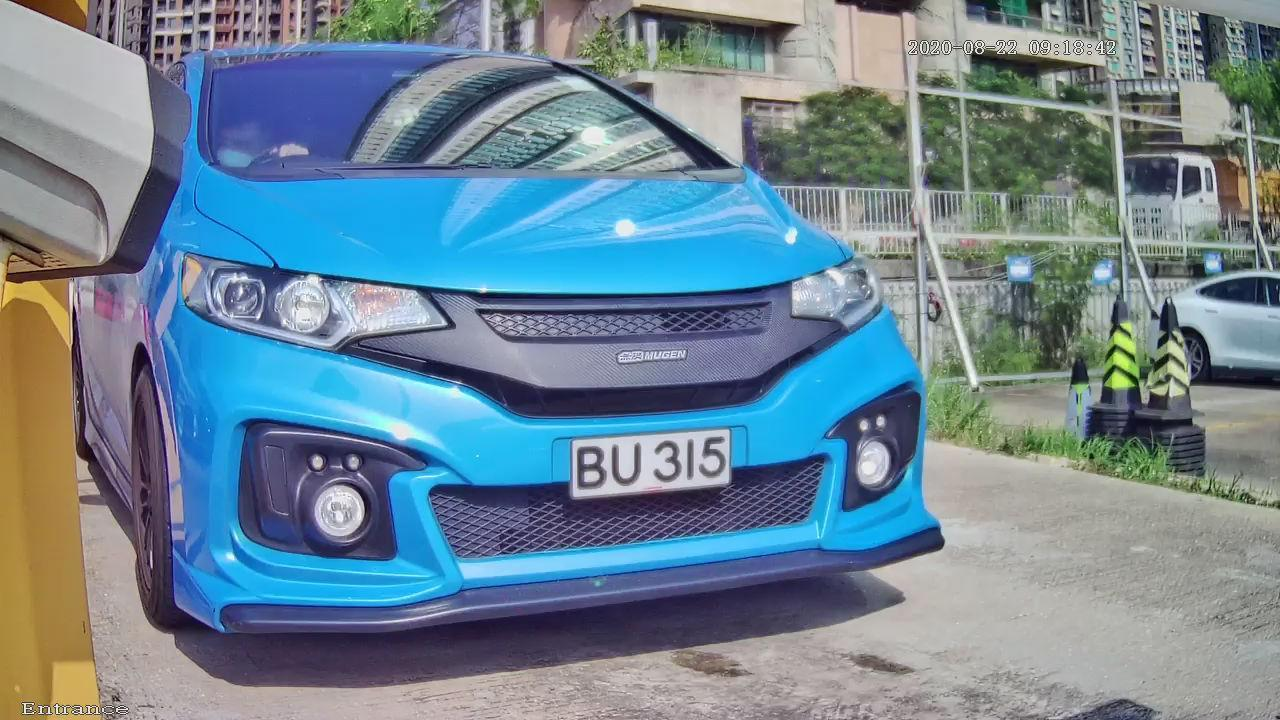Car: (40, 4, 989, 685)
License Plate: (539, 397, 783, 518)
